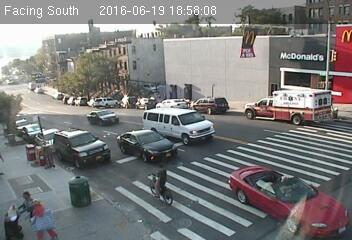neg: (263, 156, 298, 204), (141, 158, 174, 202), (32, 137, 57, 170), (71, 172, 85, 190)
pos: (21, 196, 53, 239)
